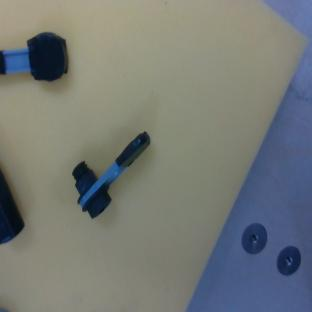part_1_bad: (57, 110, 154, 222)
part_2_bad: (0, 169, 24, 244)
part_3_bad: (0, 31, 68, 82)
